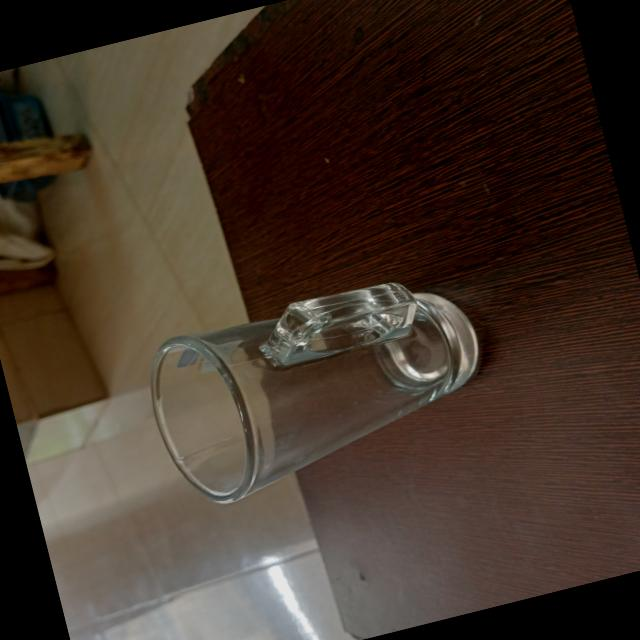glass-VX4N: (136, 262, 504, 516)
